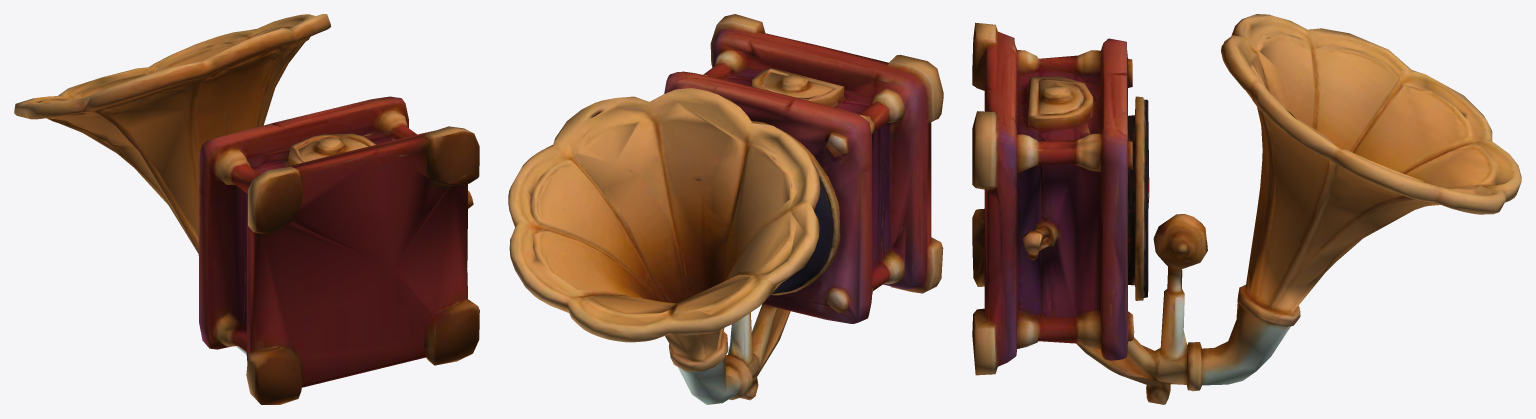
The picture shows the model from 3 angles, left to right: view 1: azimuth 30°, elevation 25°; view 2: azimuth 150°, elevation 25°; view 3: azimuth 270°, elevation 25°; orthographic projection. The views are drawn at different scales.
Parts seen in each view (by area): view 1: material; view 2: material; view 3: material.
Boxes of the visible parts, box(x1,y1,x2,y2) form: material: box(14, 14, 479, 404); material: box(508, 14, 943, 404); material: box(972, 14, 1521, 404).
Bounding box in the file's own units: 0.6552 × 0.7269 × 1.
1 material, 1 textured.
